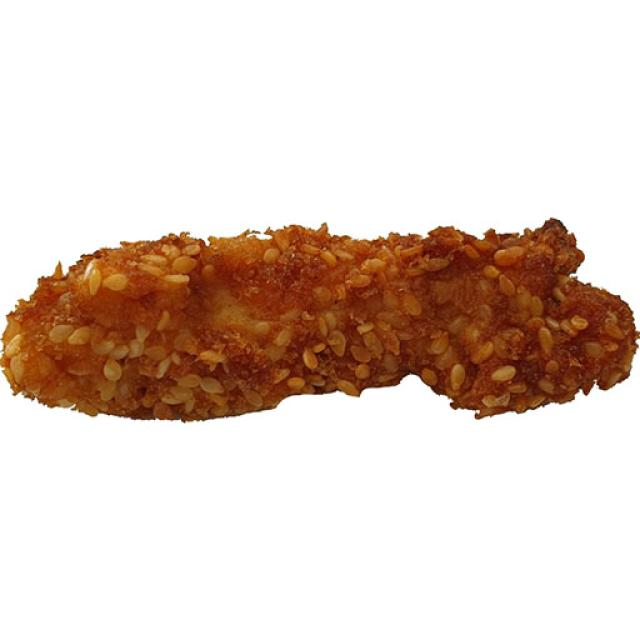Frango: (8, 209, 617, 449)
